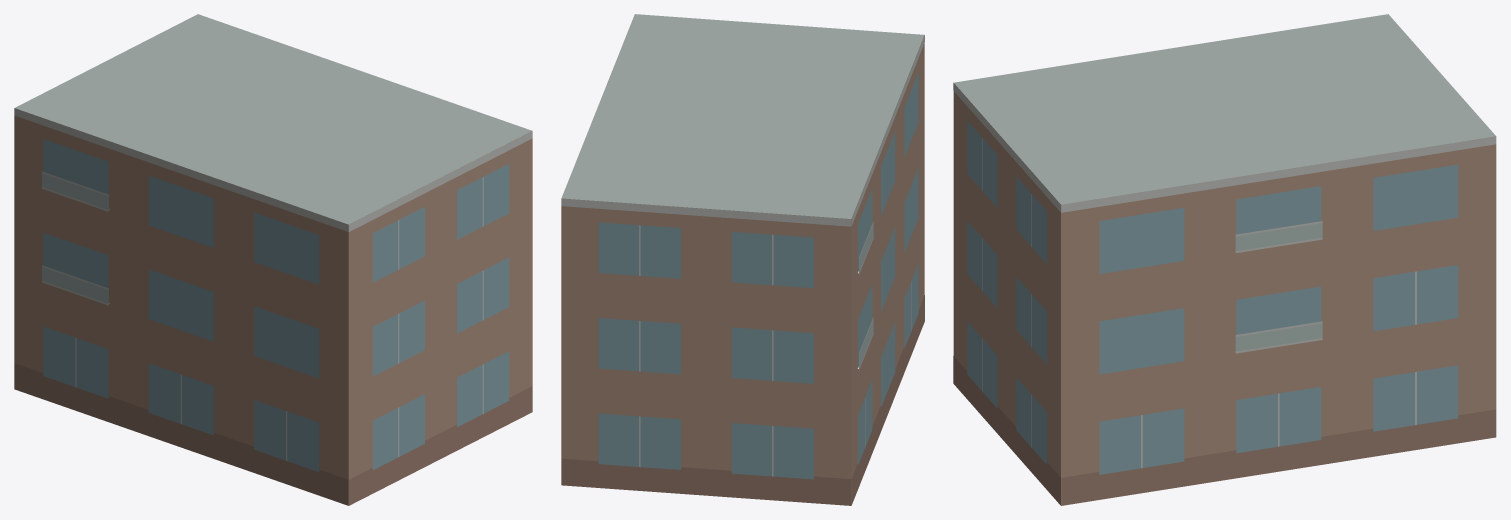
Rendered from residential-4dc32ec1-7ebe-4d65-901d-dc67ff047d45.glb.
The picture shows the model from 3 angles, left to right: view 1: azimuth 30°, elevation 25°; view 2: azimuth 150°, elevation 25°; view 3: azimuth 270°, elevation 25°; orthographic projection. The views are drawn at different scales.
Parts seen in each view (by area): view 1: residential-4dc32ec1-7ebe-4d65-901d-dc67ff047d45.tmp; view 2: residential-4dc32ec1-7ebe-4d65-901d-dc67ff047d45.tmp; view 3: residential-4dc32ec1-7ebe-4d65-901d-dc67ff047d45.tmp.
Part boxes in pixels (x1,y1,x2,y2): residential-4dc32ec1-7ebe-4d65-901d-dc67ff047d45.tmp: (14,14,532,505); residential-4dc32ec1-7ebe-4d65-901d-dc67ff047d45.tmp: (561,14,924,505); residential-4dc32ec1-7ebe-4d65-901d-dc67ff047d45.tmp: (953,14,1496,505).
Bounding box in the file's own units: 12.45 × 9.15 × 14.96.
